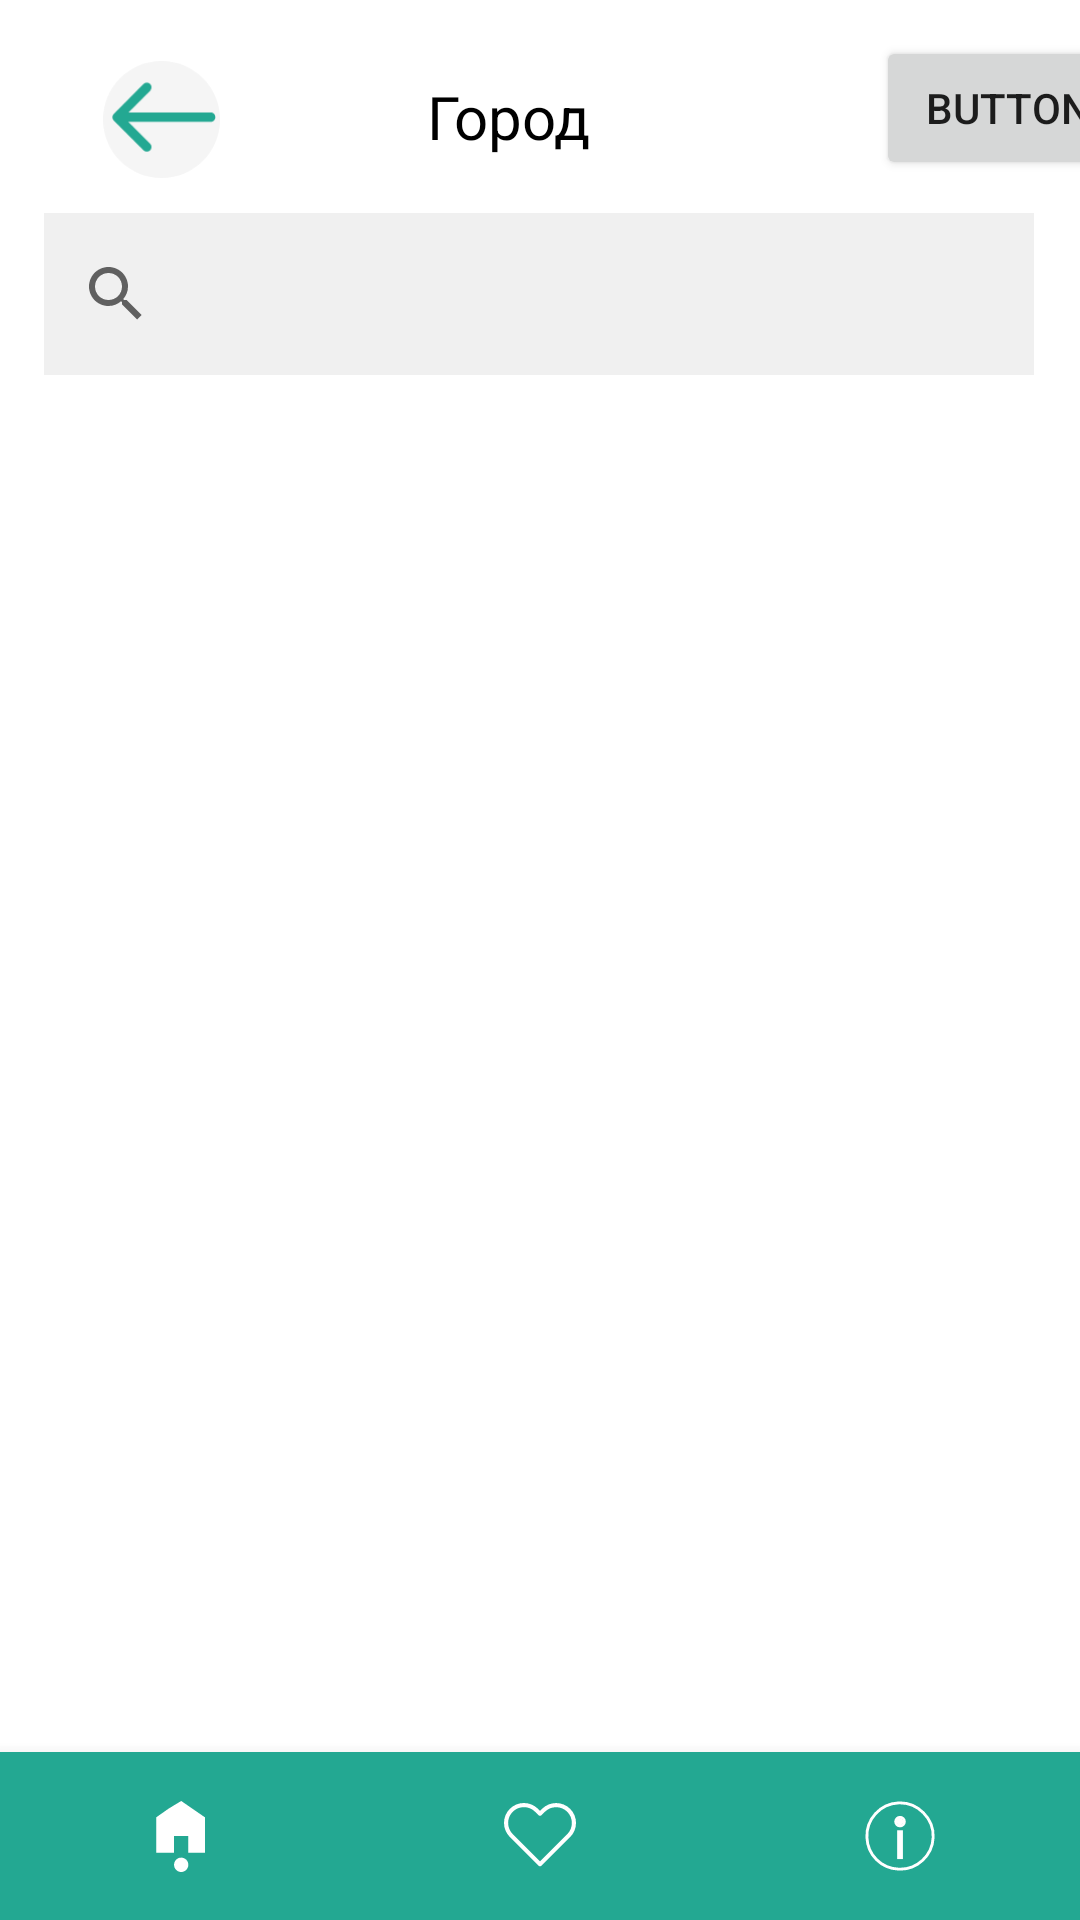

Screen size 1080w x 1920h. Icon name, then its box in pixels as (x1, y1, x2, y2):
back: (103, 61, 220, 178)
